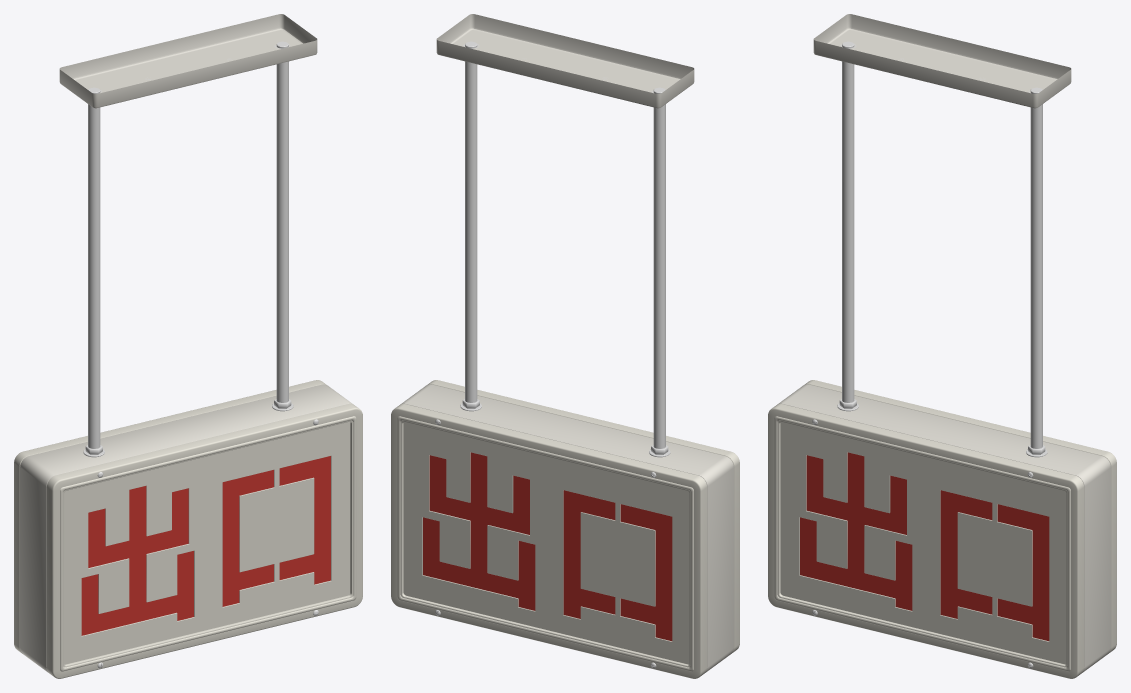
The model's file is Kit_ExitSign_Hanging.fbx.
The picture shows the model from 3 angles, left to right: view 1: azimuth 30°, elevation 25°; view 2: azimuth 150°, elevation 25°; view 3: azimuth 330°, elevation 25°; orthographic projection.
Visible parts, largest first — view 1: Kit_ExitSign_Hanging_LOD0; view 2: Kit_ExitSign_Hanging_LOD0; view 3: Kit_ExitSign_Hanging_LOD0.
Part boxes in pixels (bbox=[...]): Kit_ExitSign_Hanging_LOD0: bbox=[14, 14, 362, 678]; Kit_ExitSign_Hanging_LOD0: bbox=[391, 14, 739, 678]; Kit_ExitSign_Hanging_LOD0: bbox=[768, 14, 1116, 678].
Size of what is drawn, in the model's own units: 0.346 by 0.612 by 0.0789.
